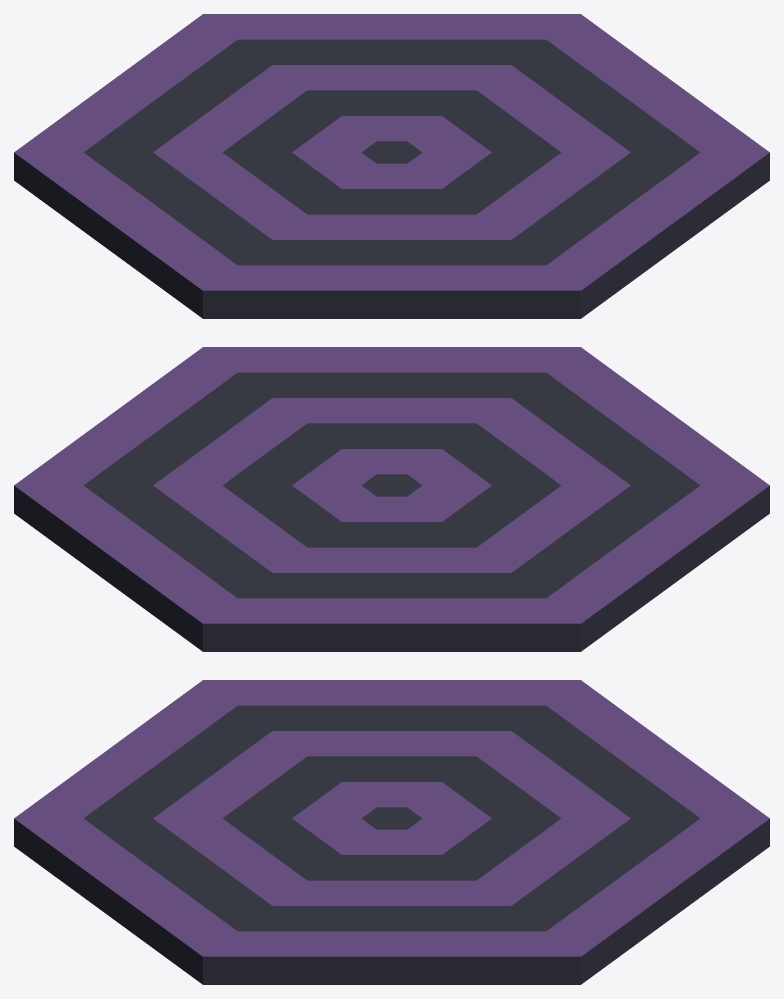
Rendered from hexagon-platform.fbx.
The picture shows the model from 3 angles, top to bottom: view 1: azimuth 30°, elevation 25°; view 2: azimuth 150°, elevation 25°; view 3: azimuth 270°, elevation 25°; orthographic projection.
Parts seen in each view (by area): view 1: Cylinder; view 2: Cylinder; view 3: Cylinder.
Part boxes in pixels (box(x1,y1,x2,y2)): Cylinder: box(14, 14, 769, 318); Cylinder: box(14, 347, 769, 651); Cylinder: box(14, 680, 769, 984).
Bounding box in the file's own units: 1088 × 51.4 × 1256.
Materials: 1 (1 with a texture image).
